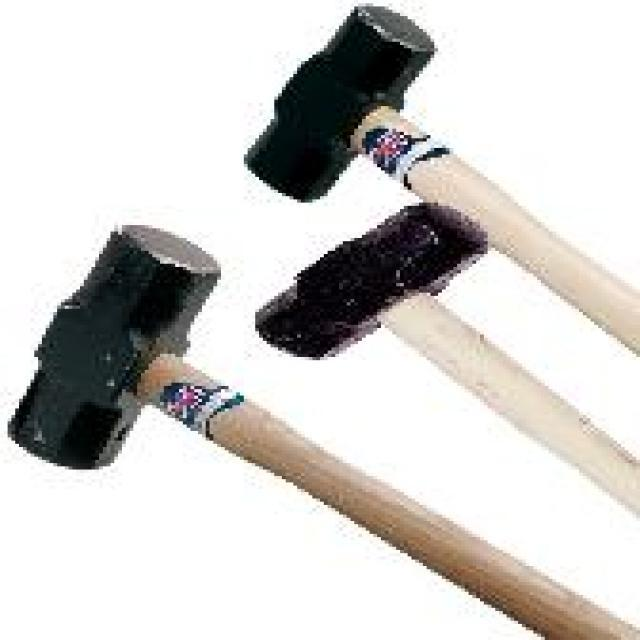hammer: (0, 209, 636, 640), (237, 0, 639, 347), (245, 196, 640, 482)
